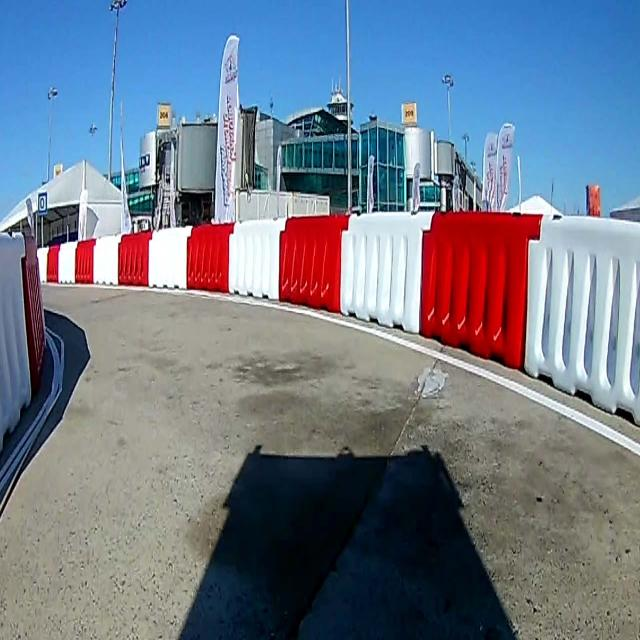durak: (38, 192, 46, 215)
